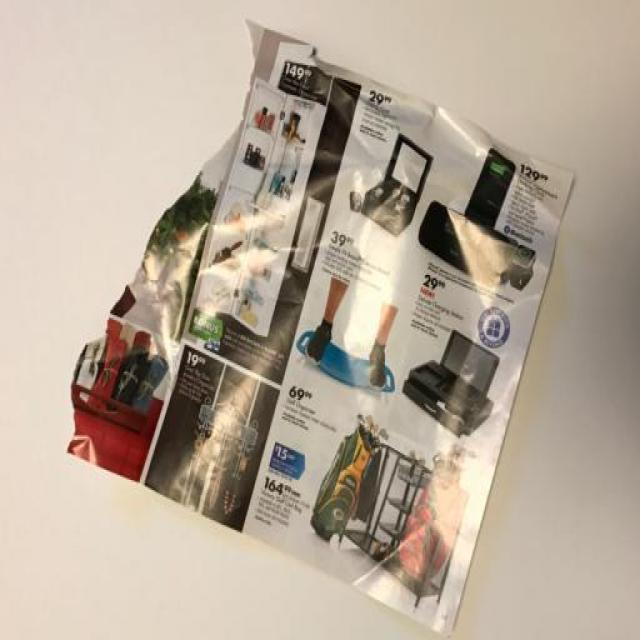paper: (82, 65, 566, 615)
